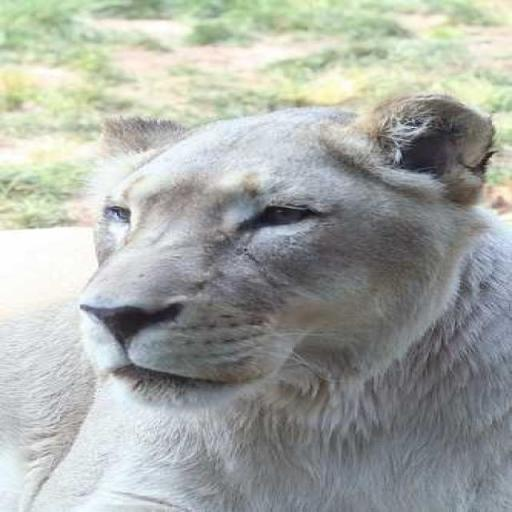Lion: (0, 92, 510, 509)
